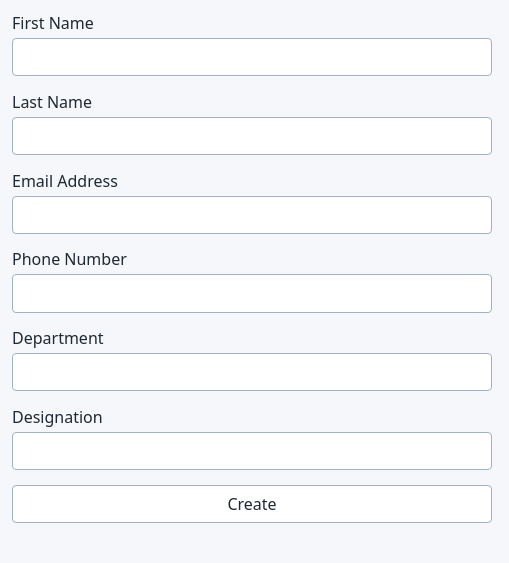
Test: UserForm › rejects invalid email
In the field labelled "First Name": (252, 57) [12,38,492,76], type "John"
In the field labelled "Last Name": (252, 136) [12,117,492,155], type "Doe"
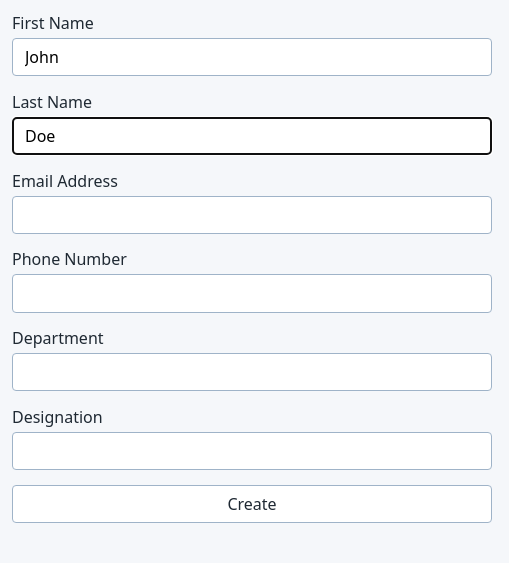
In the field labelled "Email Address": (252, 215) [12,196,492,234], type "not-an-email"
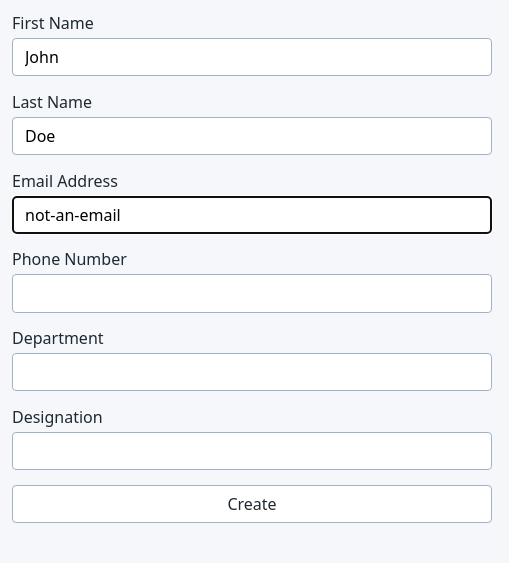
In the field labelled "Phone Number": (252, 294) [12,274,492,313], type "+911234567890"
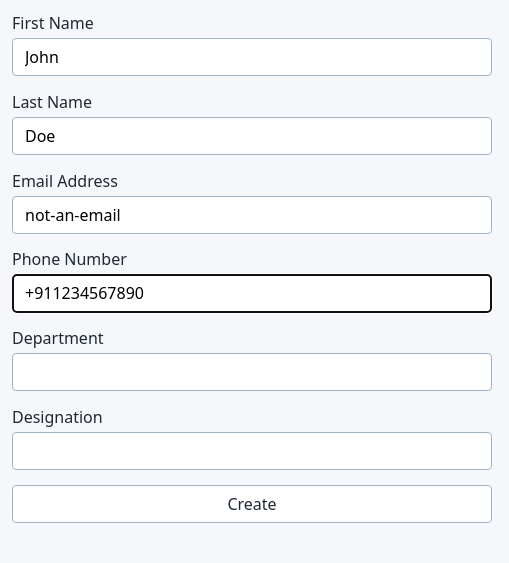
In the field labelled "Department": (252, 372) [12,353,492,392], type "Engineering"
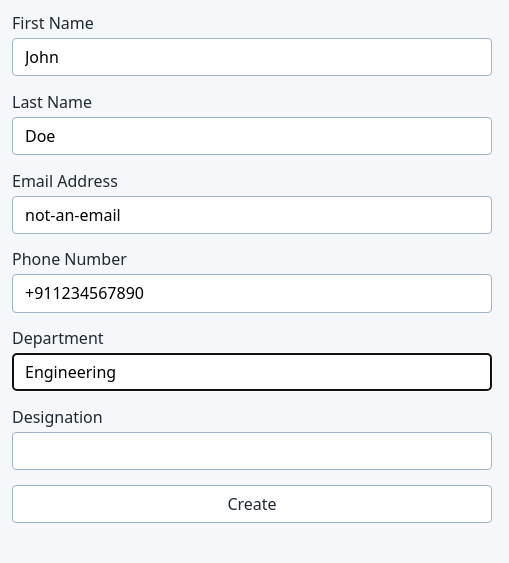
In the field labelled "Designation": (252, 451) [12,432,492,470], type "Engineer"
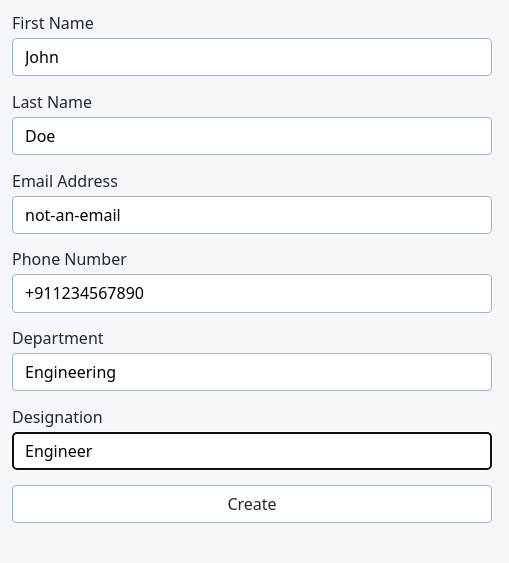
Click the button "Create": (252, 504) [12,485,492,523]
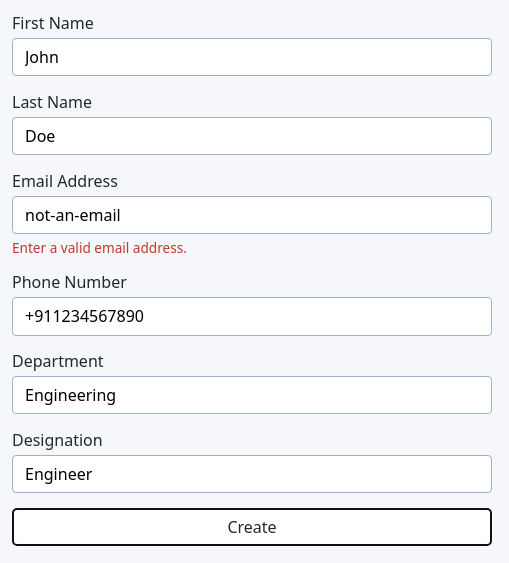
Expected: the text "Enter a valid email address." is shown, [12,238,187,257]
